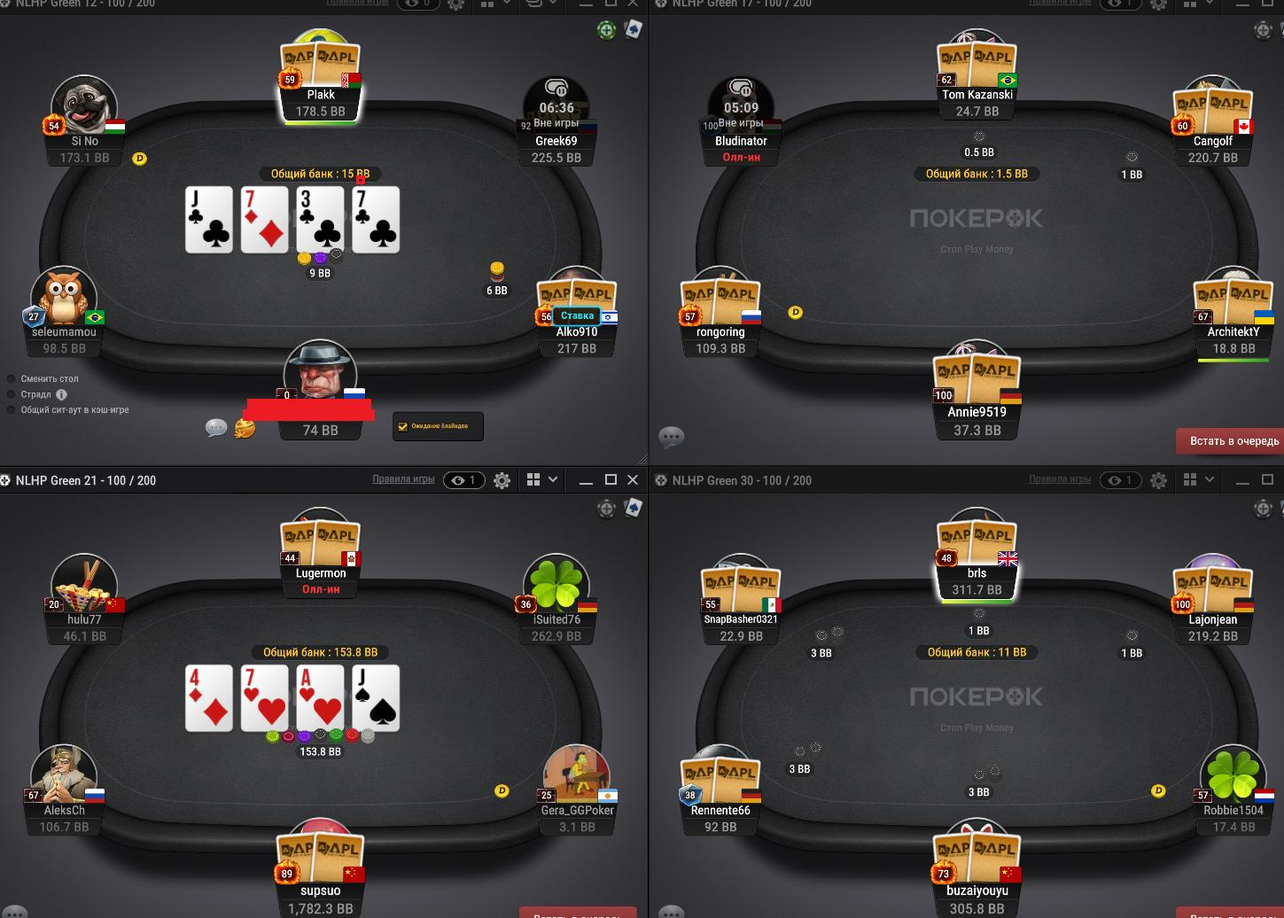3c: (298, 186, 344, 254)
4d: (186, 665, 235, 732)
7c: (351, 187, 401, 253)
7d: (240, 185, 288, 252)
7h: (243, 666, 289, 730)
Ah: (296, 663, 345, 731)
Jc: (186, 186, 233, 253)
Js: (353, 667, 397, 730)
